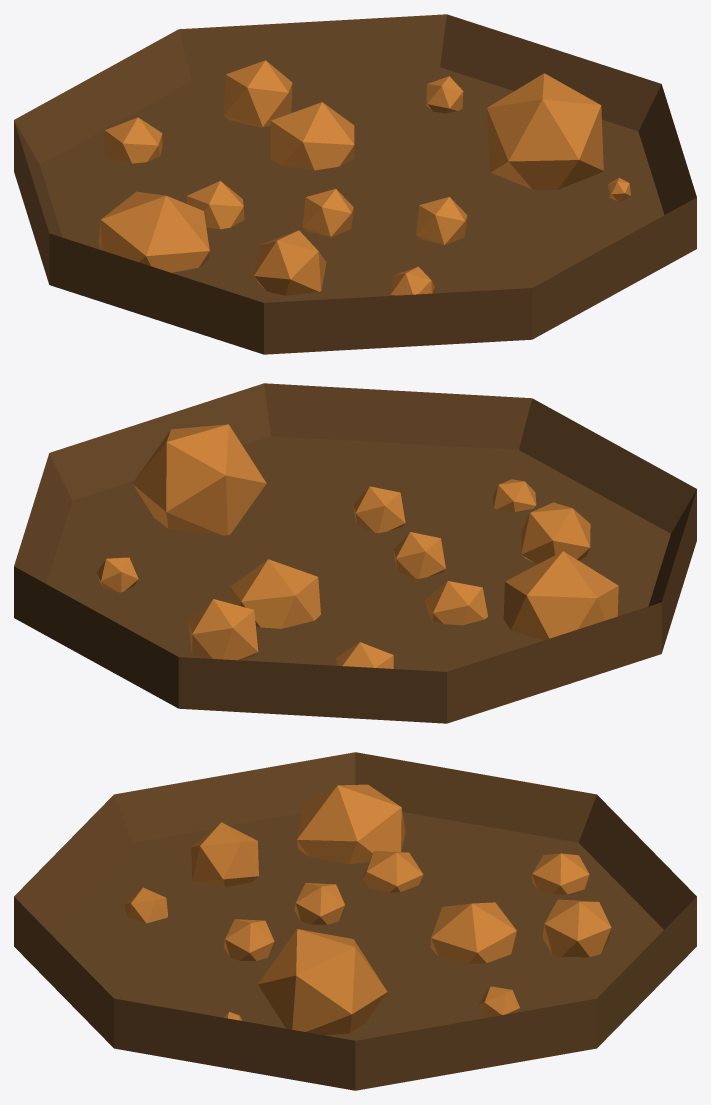
Rendered from Brinza.fbx.
3 renders of one model, top to bottom at view 1: azimuth 30°, elevation 25°; view 2: azimuth 150°, elevation 25°; view 3: azimuth 270°, elevation 25°, orthographic. The views are drawn at different scales.
Parts seen in each view (by area): view 1: Cylinder.007; view 2: Cylinder.007; view 3: Cylinder.007.
Boxes of the visible parts, x1,y1,x2,y2 form: Cylinder.007: [14, 14, 696, 354]; Cylinder.007: [14, 383, 696, 723]; Cylinder.007: [14, 752, 696, 1090].
Size of the model in its own units: 5.41 by 1.2 by 5.41.
